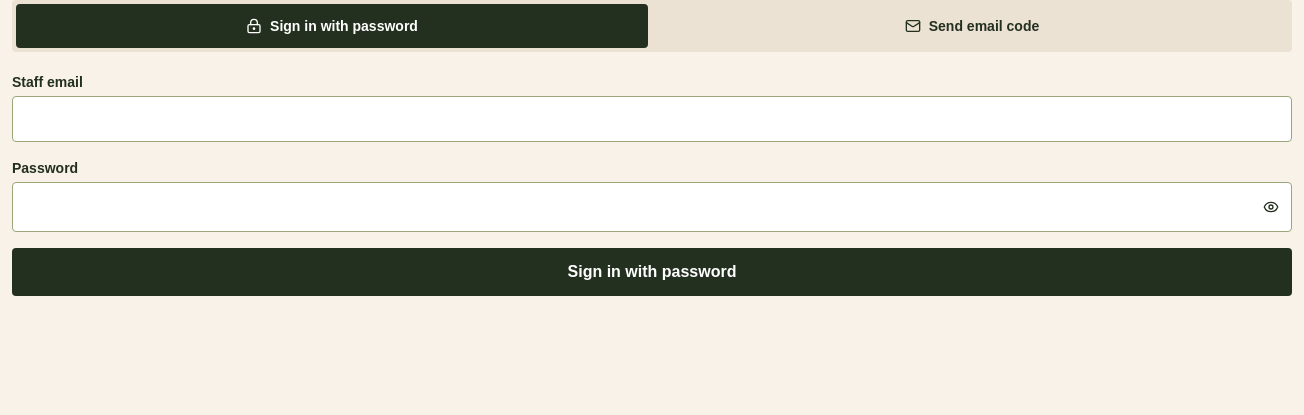
Scenario: StaffLoginOptions password flow › shows readable email-not-confirmed errors
Step 1. Type "staff@example.com" into the field labelled "Staff email" → (652, 119), box [12,96,1292,142]
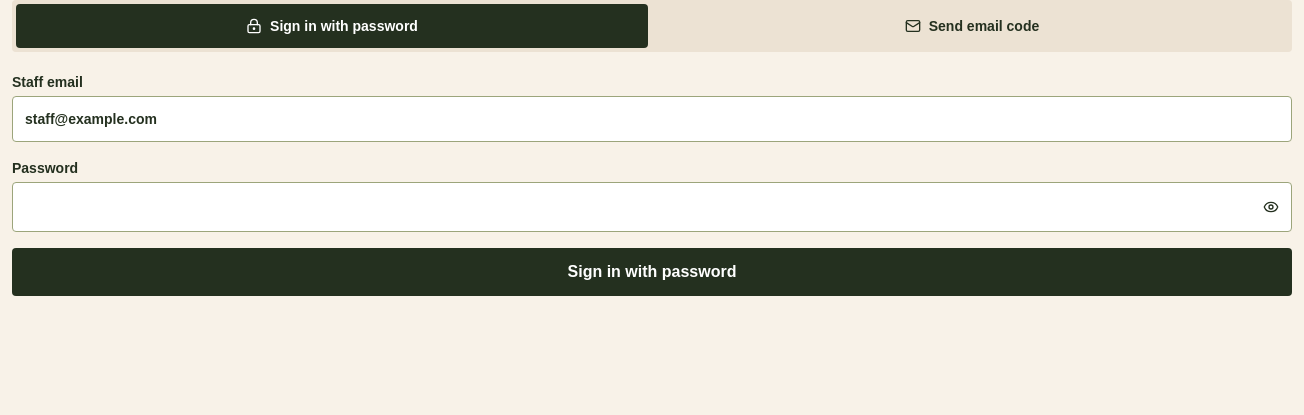
Step 2. Type "correct horse battery staple" into the password field labelled "Password" → (632, 207), box [13,185,1251,229]
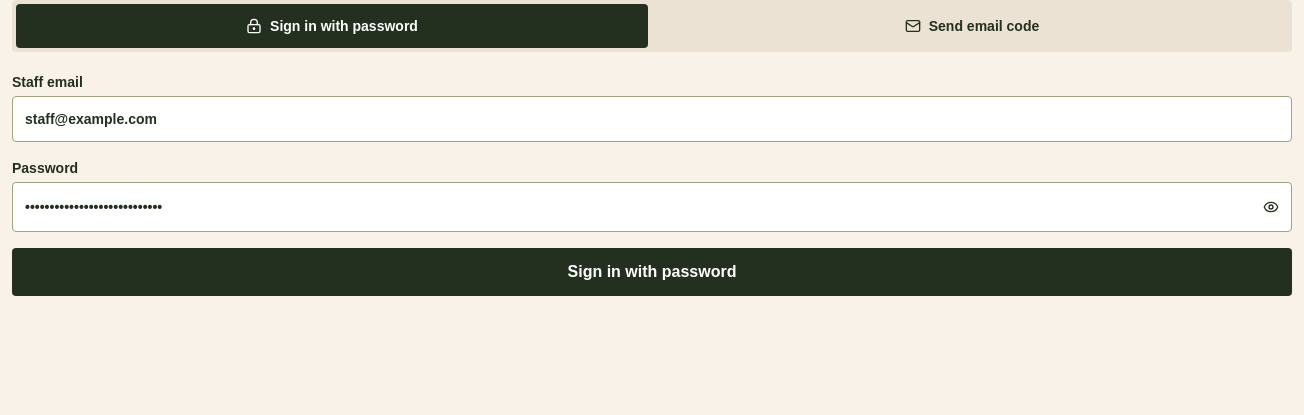
Step 3. Submit the form labelled "Staff email Password Sign in with password"
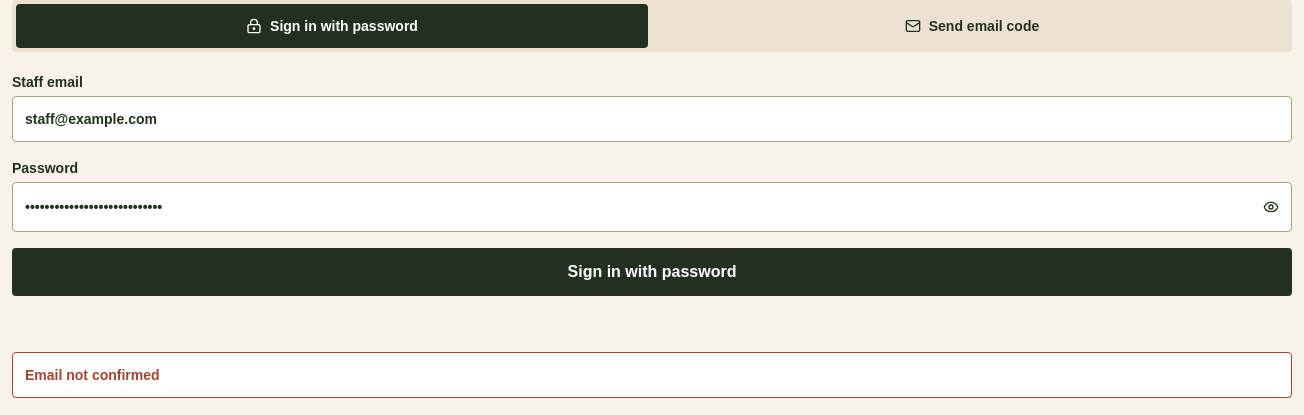
Expected: the message reads "Email not confirmed", [25,367,160,383]
